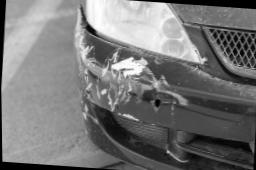Bumper: (61, 38, 168, 144)
